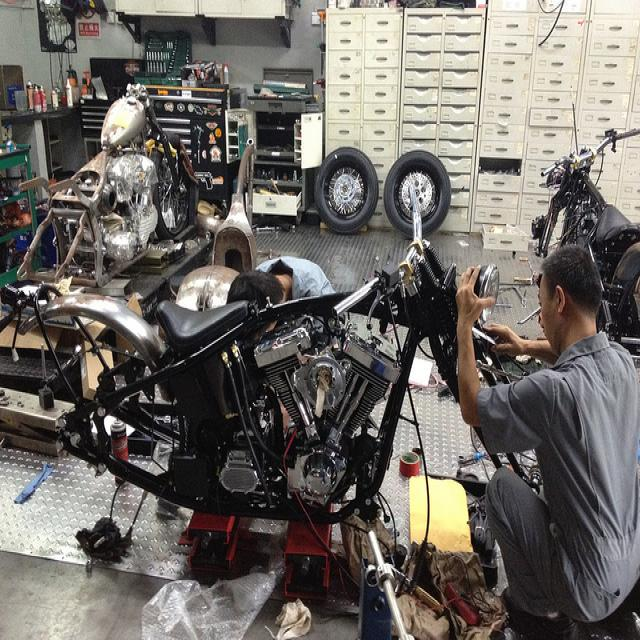motor: (17, 188, 513, 531), (16, 83, 201, 290), (530, 124, 640, 375), (174, 143, 255, 306)
